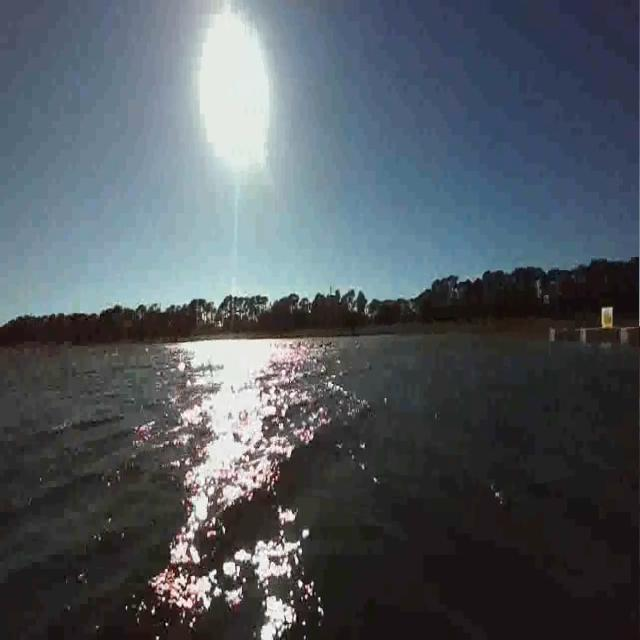yellow-duck: (604, 308, 614, 328)
